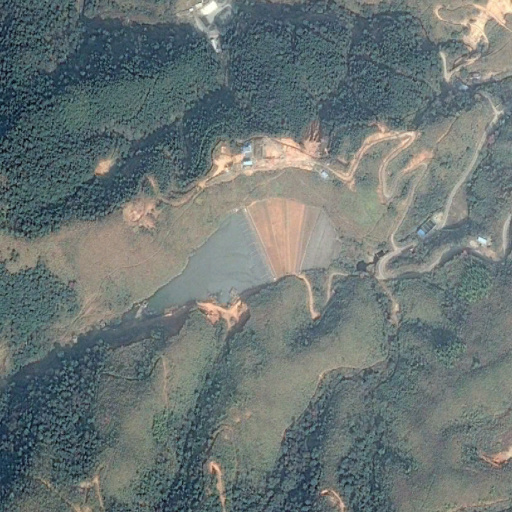tp: (146, 199, 341, 318)
